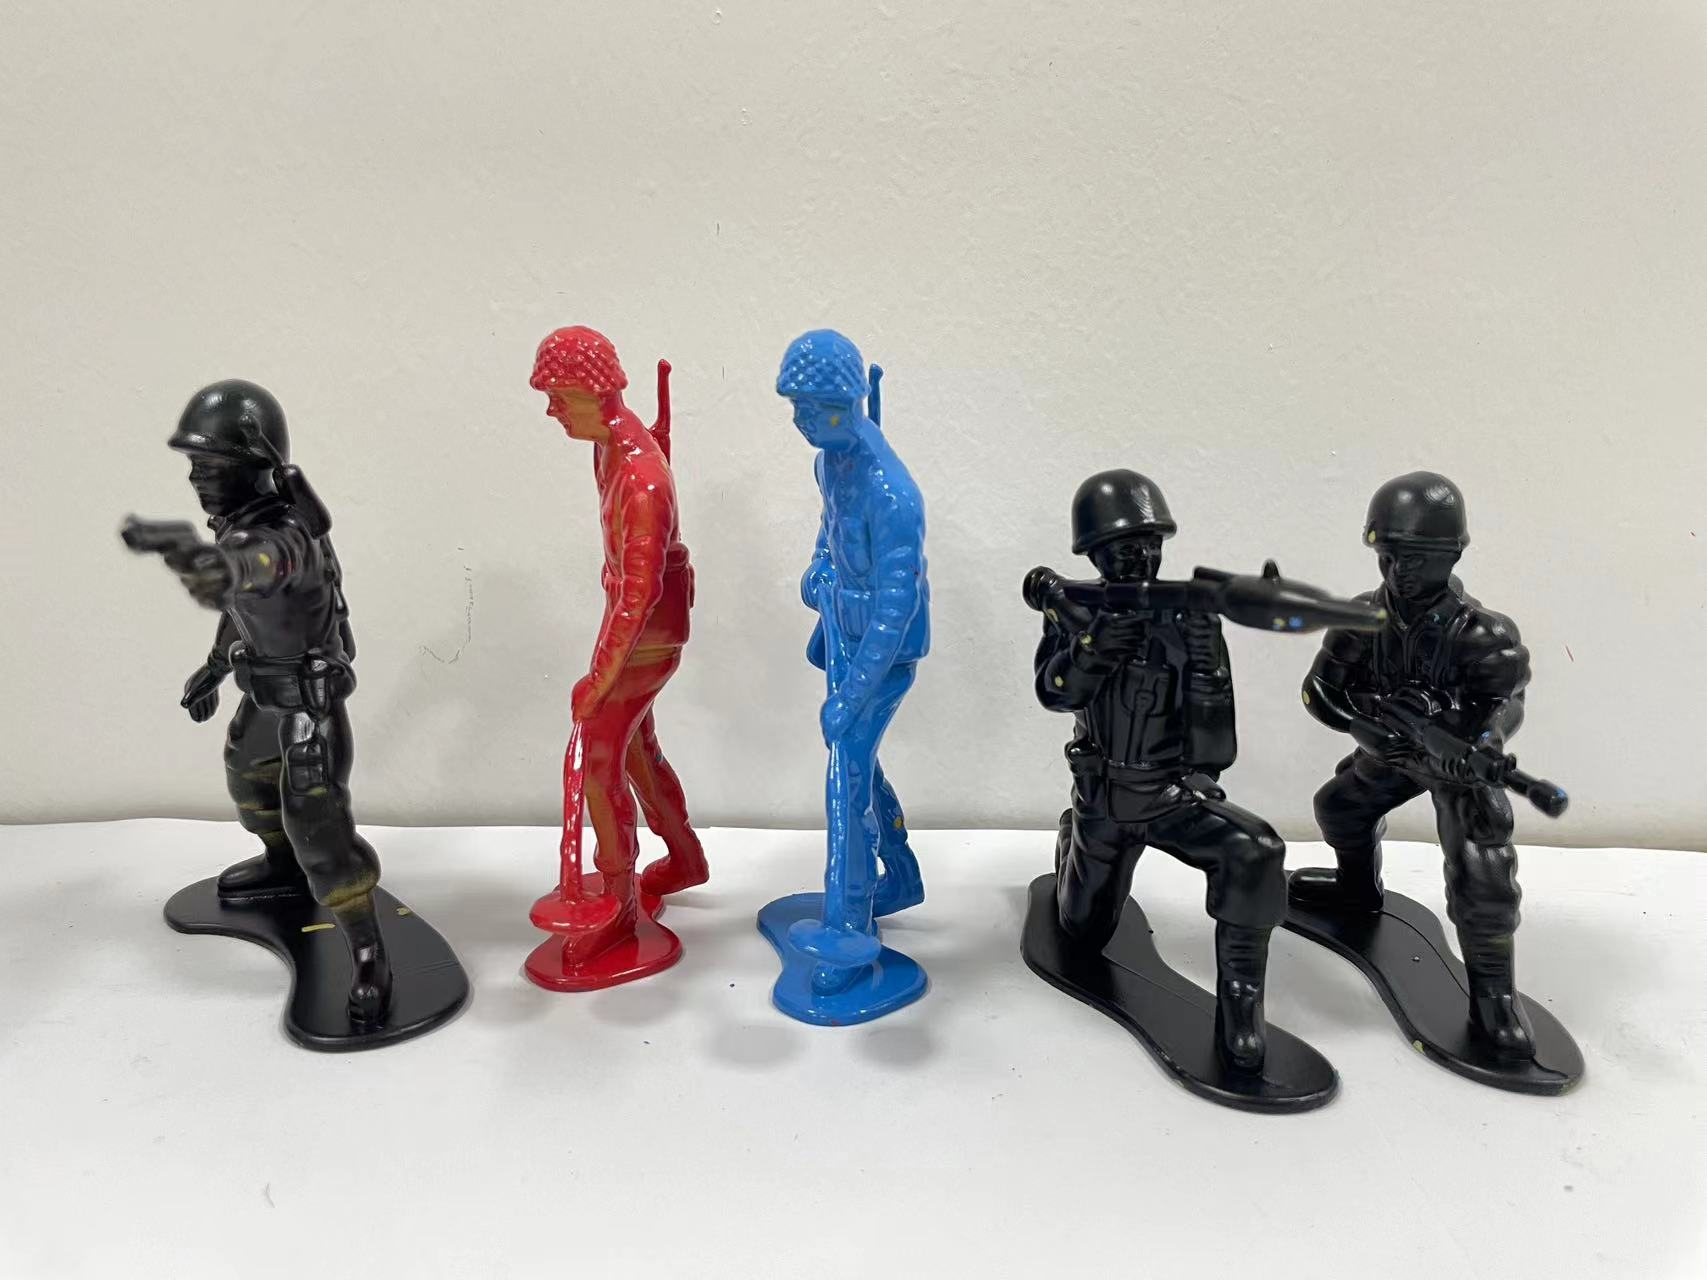black: (48, 360, 487, 1092), (1281, 457, 1680, 1140), (1000, 436, 1354, 1131)
blue: (757, 301, 1001, 1119)
red: (484, 298, 749, 1086)
